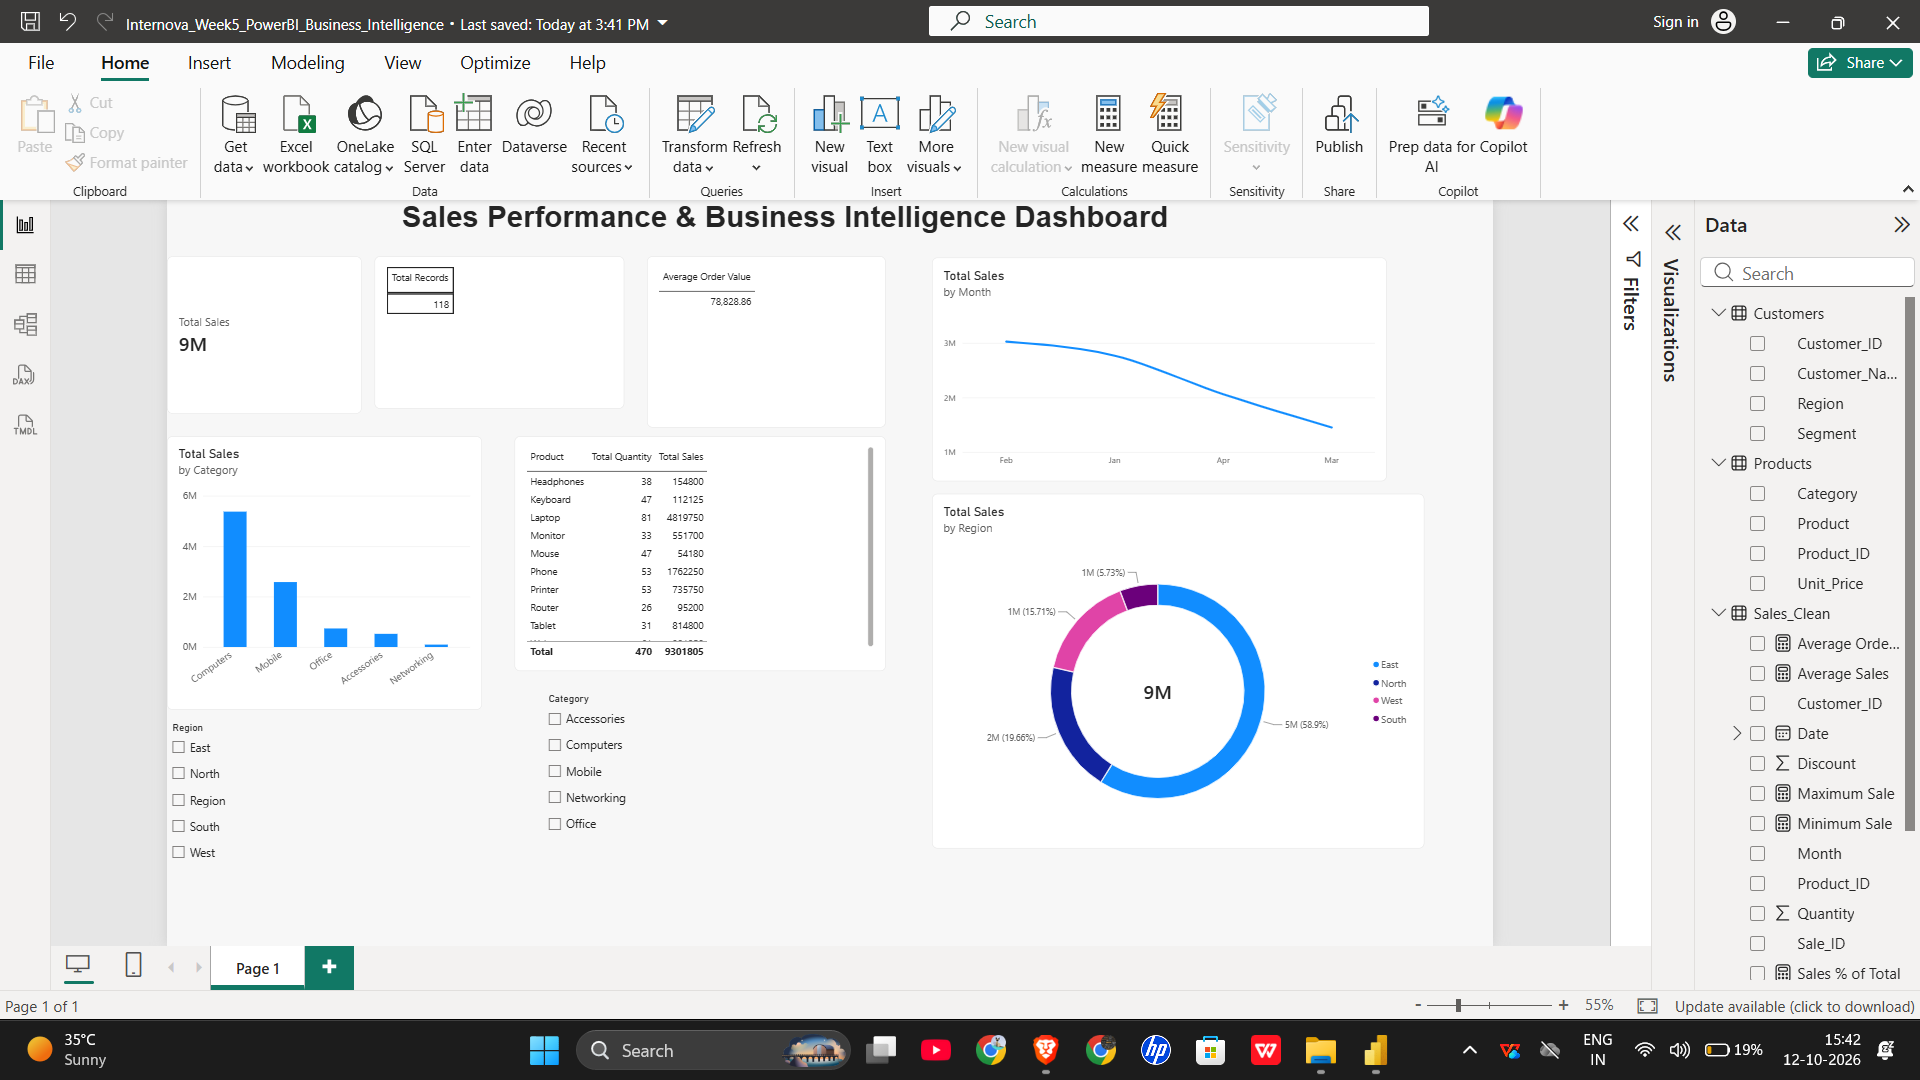

Layout of this report page (visuals, bound fields, positions):
{"tool":"powerbi","page":{"name":"Page 1","canvas":[1920,1080],"ordinal":0},"visuals":[{"type":"textbox","box":[340.2,0,1132.8,97.7],"z":0},{"type":"cardVisual","fields":{"Data":["Sales_Clean.Total Sales"]},"box":[0,81.4,282.3,228],"z":1},{"type":"tableEx","fields":{"Values":["Sales_Clean.Total Records"]},"box":[300.4,81.4,361.9,220.8],"z":2},{"type":"tableEx","fields":{"Values":["Sales_Clean.Average Order Value"]},"box":[694.9,81.4,345.6,247.9],"z":3},{"type":"clusteredColumnChart","fields":{"Category":["Products.Category"],"Y":["Sales_Clean.Total Sales"]},"box":[0,342,456,396.3],"z":4},{"type":"lineChart","fields":{"Category":["Sales_Clean.Month"],"Y":["Sales_Clean.Total Sales"]},"box":[1107.5,83.2,658.7,323.9],"z":5},{"type":"donutChart","fields":{"Category":["Customers.Region"],"Y":["Sales_Clean.Total Sales"]},"box":[1107.5,425.3,713,513.9],"z":6},{"type":"tableEx","fields":{"Values":["Products.Product","Sales_Clean.Total Quantity","Sales_Clean.Total Sales"]},"box":[503.1,342,537.5,340.2],"z":7},{"type":"slicer","fields":{"Values":["Customers.Region"]},"box":[0,754.6,456,280.5],"z":8},{"type":"slicer","fields":{"Values":["Products.Category"]},"box":[544.7,713,414.4,363.7],"z":9}]}

Visuals, with their boxes on the page's 1920x1080 design canvas (x1, y1, x2, y2). These are canvas units, not pixel positions in the 1920x1080 screenshot, which may show the page scaled, cropped or inside an application window:
textbox: <box>340,0,1473,98</box>
cardVisual - Sales_Clean.Total Sales: <box>0,81,282,309</box>
tableEx - Sales_Clean.Total Records: <box>300,81,662,302</box>
tableEx - Sales_Clean.Average Order Value: <box>695,81,1040,329</box>
clusteredColumnChart - Products.Category x Sales_Clean.Total Sales: <box>0,342,456,738</box>
lineChart - Sales_Clean.Month x Sales_Clean.Total Sales: <box>1108,83,1766,407</box>
donutChart - Customers.Region x Sales_Clean.Total Sales: <box>1108,425,1820,939</box>
tableEx - Products.Product x Sales_Clean.Total Quantity: <box>503,342,1041,682</box>
slicer - Customers.Region: <box>0,755,456,1035</box>
slicer - Products.Category: <box>545,713,959,1077</box>
